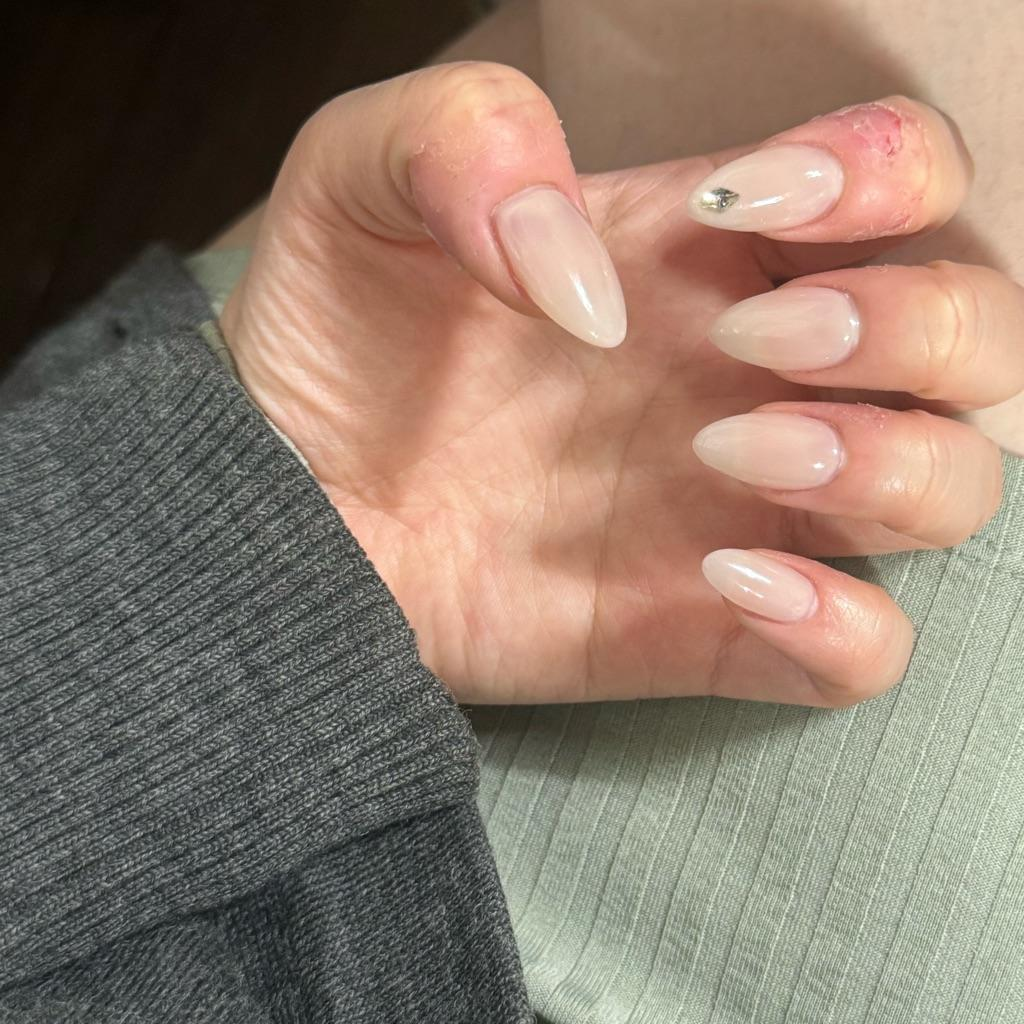nail: (490, 182, 628, 349), (686, 140, 844, 234), (707, 283, 861, 372), (690, 409, 845, 492), (700, 546, 818, 624)
